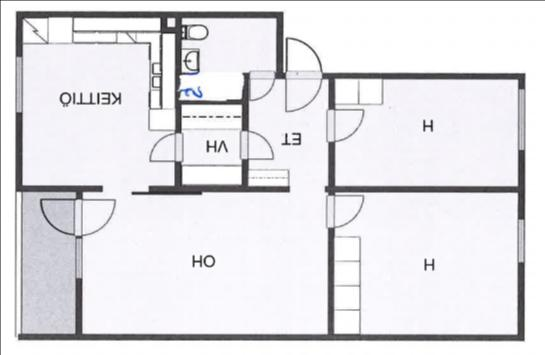door: (38, 194, 82, 238), (73, 195, 117, 236), (282, 72, 324, 114), (282, 36, 322, 79), (323, 192, 366, 230), (326, 108, 366, 144), (238, 128, 276, 162), (148, 130, 185, 164), (246, 71, 276, 99)
window: (516, 85, 527, 153), (514, 212, 526, 266), (14, 52, 24, 116), (72, 234, 84, 282)
